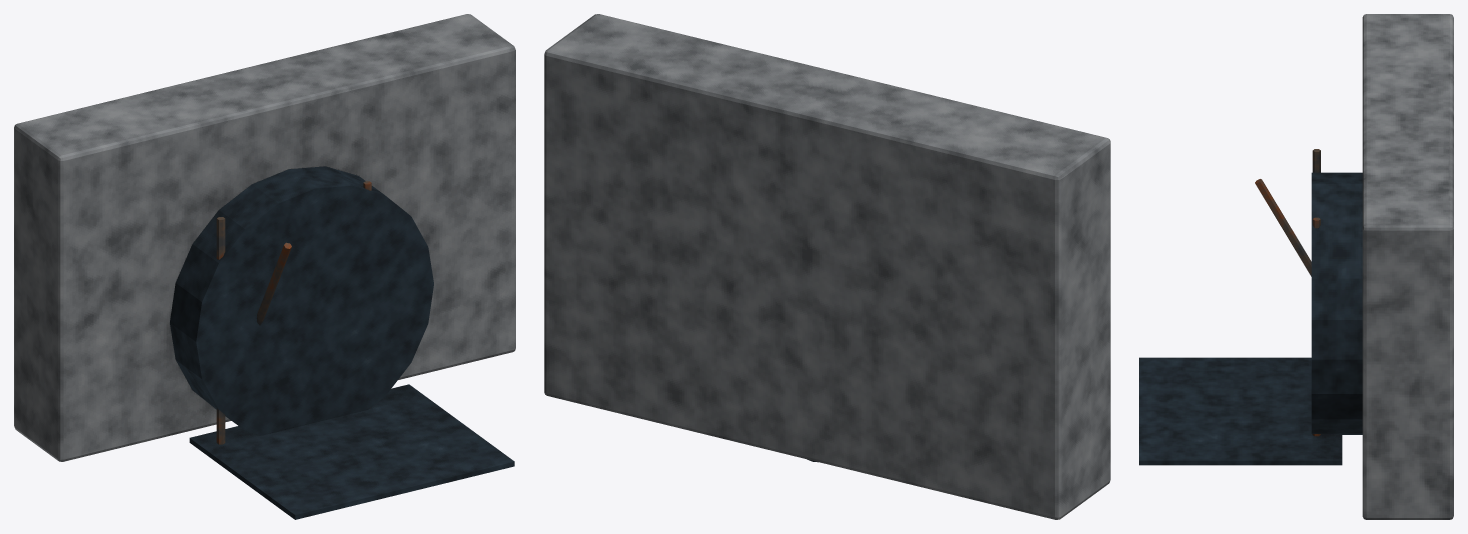
File: city_culvert.glb
3 renders of one model, left to right at view 1: azimuth 30°, elevation 25°; view 2: azimuth 150°, elevation 25°; view 3: azimuth 270°, elevation 25°, orthographic. The views are drawn at different scales.
Parts seen in each view (by area): view 1: city_culvert; view 2: city_culvert; view 3: city_culvert.
Part boxes in pixels (x1,y1,x2,y2): city_culvert: (14,14,515,519); city_culvert: (544,14,1110,519); city_culvert: (1139,14,1453,519).
Bounding box in the file's own units: 5 × 3.3 × 3.1.
3 materials, 3 textured.
